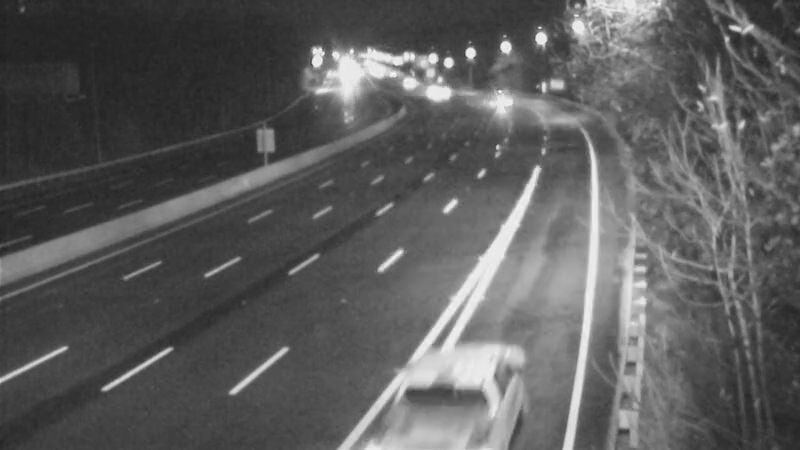vehicle: (384, 347, 494, 450), (382, 60, 432, 110), (410, 65, 460, 115), (480, 76, 530, 126)
